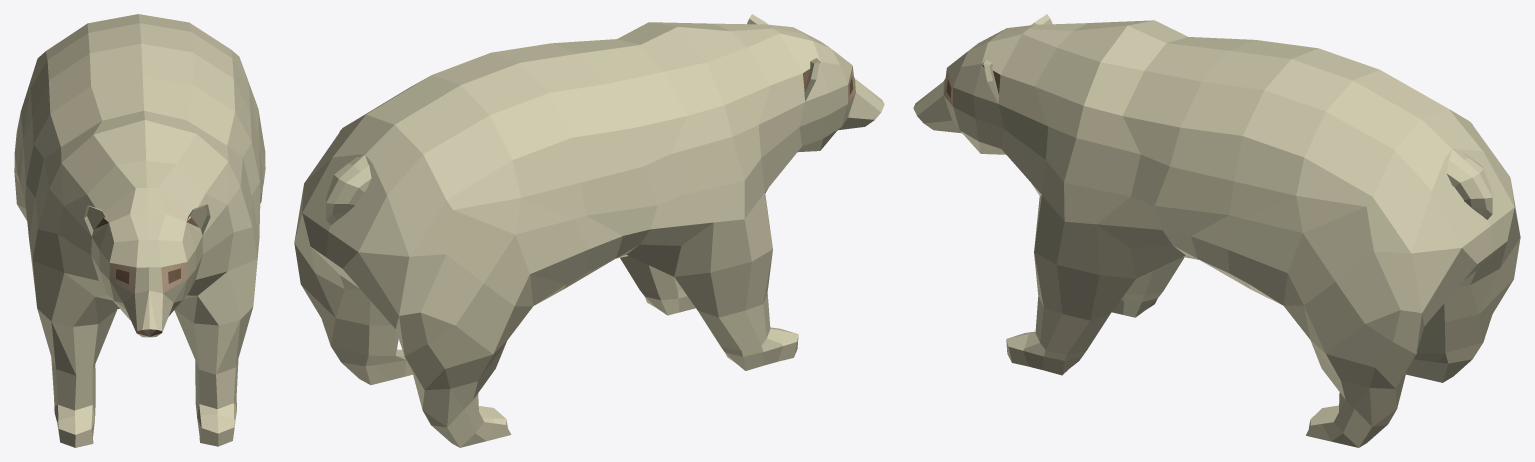
The model's file is polarbear2.gltf.
3 renders of one model, left to right at view 1: azimuth 30°, elevation 25°; view 2: azimuth 150°, elevation 25°; view 3: azimuth 270°, elevation 25°, orthographic. The views are drawn at different scales.
Parts seen in each view (by area): view 1: Cube.026; view 2: Cube.026; view 3: Cube.026.
Part boxes in pixels (x1,y1,x2,y2): Cube.026: [14, 14, 265, 447]; Cube.026: [294, 14, 884, 447]; Cube.026: [913, 14, 1520, 447].
Size of the model in its own units: 2.34 by 2.03 by 3.45.
